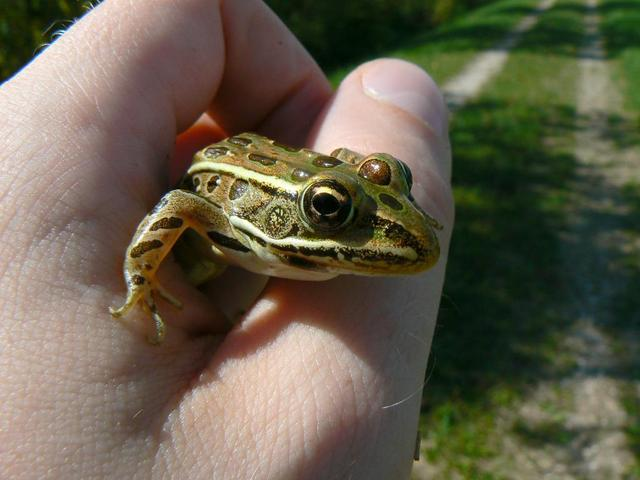frog: (95, 97, 479, 358)
